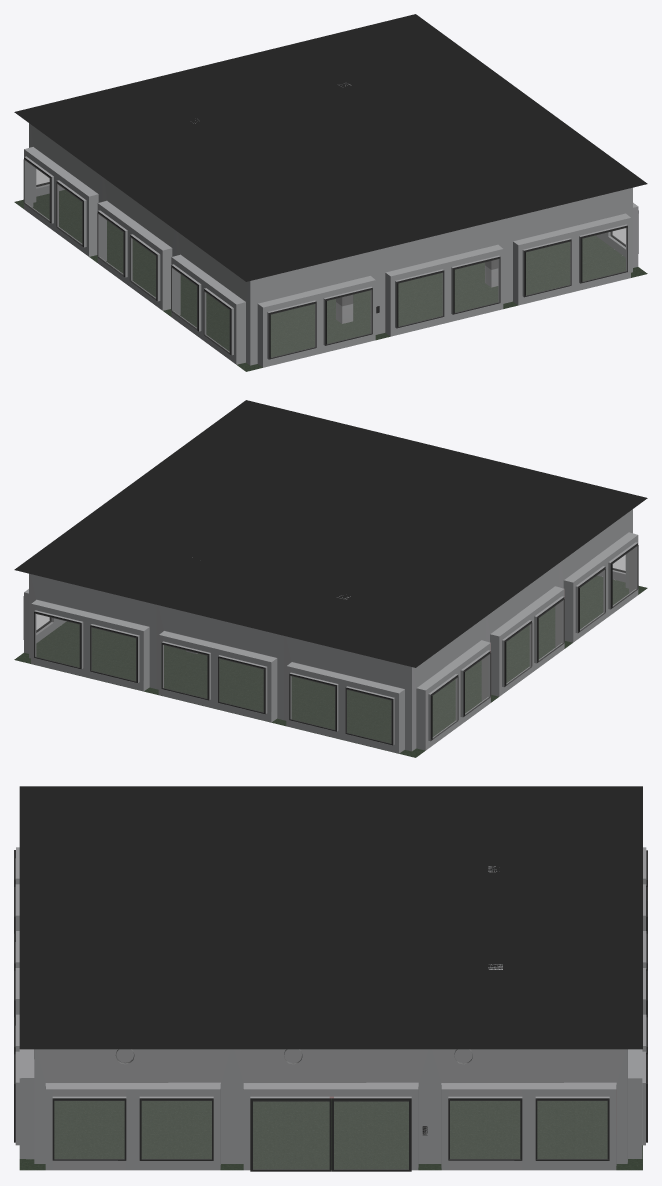
File: office_studio_lr.glb
3 renders of one model, top to bottom at view 1: azimuth 30°, elevation 25°; view 2: azimuth 150°, elevation 25°; view 3: azimuth 270°, elevation 25°, orthographic. The views are drawn at different scales.
Parts seen in each view (by area): view 1: Plane.061, Cube.001, Cube.004, Plane.001, Cube.002; view 2: Plane.061, Cube.003, Cube.004, Plane.001, Cube.002; view 3: Plane.061, Cube.002, Plane.001, Cube.005, Cube.001, Cube.003.
Part boxes in pixels (x1,y1,x2,y2): Plane.061: (14,14,647,281); Cube.001: (250,187,632,367); Cube.004: (23,123,250,365); Plane.001: (14,190,647,371); Cube.002: (596,203,638,267); Plane.061: (14,400,647,667); Cube.003: (29,573,411,753); Cube.004: (412,509,638,751); Plane.001: (14,575,647,757); Cube.002: (23,589,65,653); Plane.061: (19,786,642,1049); Cube.002: (34,1049,627,1171); Plane.001: (19,1098,642,1170); Cube.005: (250,1098,411,1171); Cube.001: (14,847,34,1159); Cube.003: (627,847,647,1162).
Bounding box in the file's own units: 20.26 × 4.38 × 20.26.
Materials: 3 (3 with a texture image).
